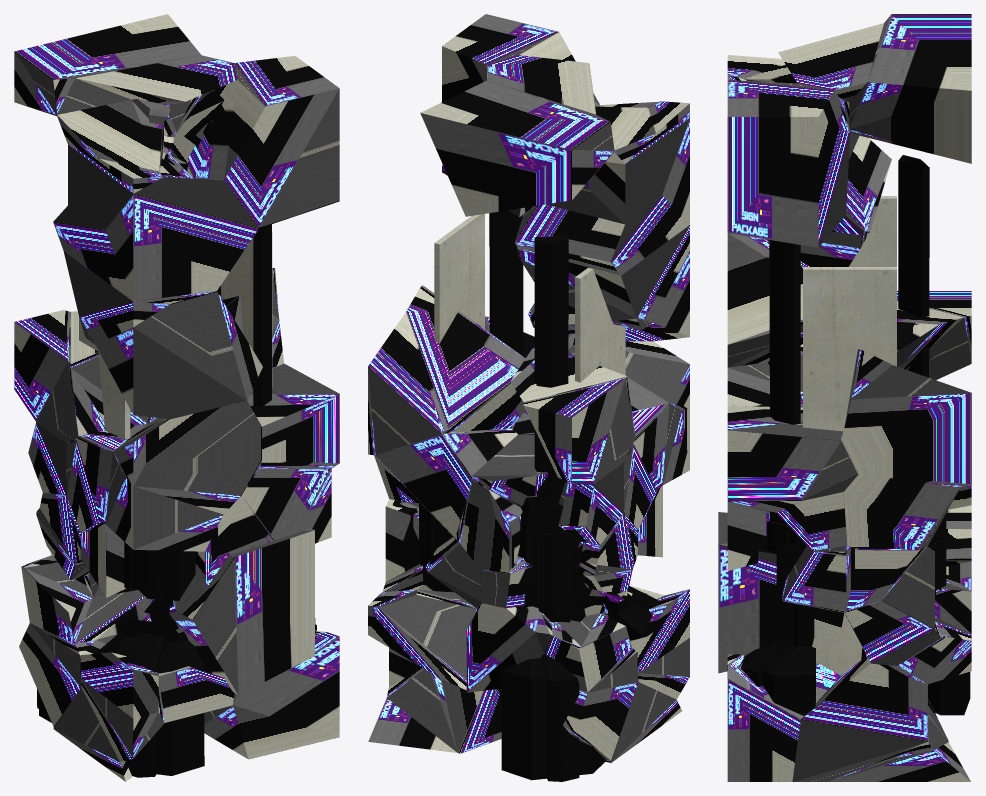
The model's file is shellyGebouw4broken .fbx.
3 views of the same model, side by side, from view 1: azimuth 30°, elevation 25°; view 2: azimuth 150°, elevation 25°; view 3: azimuth 270°, elevation 25° (orthographic). The views are drawn at different scales.
Parts seen in each view (by area): view 1: Cube.008_cell.022, Cube.008_cell.073, Cube.008_cell.044, Cube.008_cell.052, Cube.008_cell.004, Cube.008_cell.093, Cube.008_cell.069, Cube.008_cell.091, Cube.008_cell.061, Cube.008_cell.050, Cube.008_cell.021, Cube.008_cell.098 (+27 smaller); view 2: Cube.008_cell.034, Cube.008_cell.069, Cube.008_cell.018, Cube.008_cell.010, Cube.008_cell.061, Cube.008_cell.062, Cube.008_cell.066, Cube.008_cell.030, Cube.008_cell.085, Cube.008_cell.031, Cube.008_cell.022, Cube.008_cell.049 (+36 smaller); view 3: Cube.008_cell.022, Cube.008_cell.069, Cube.008_cell.010, Cube.008_cell.018, Cube.008_cell.054, Cube.008_cell.050, Cube.008_cell.073, Cube.008_cell.070, Cube.008_cell.093, Cube.008_cell.034, Cube.008_cell.037, Cube.008_cell.044 (+21 smaller).
Part boxes in pixels (x1,y1,x2,y2): Cube.008_cell.022: (185, 56, 339, 228); Cube.008_cell.073: (151, 528, 314, 695); Cube.008_cell.044: (96, 291, 262, 419); Cube.008_cell.052: (105, 177, 258, 303); Cube.008_cell.004: (113, 400, 261, 514); Cube.008_cell.093: (204, 231, 339, 759); Cube.008_cell.069: (14, 14, 201, 116); Cube.008_cell.091: (53, 619, 204, 781); Cube.008_cell.061: (14, 310, 105, 444); Cube.008_cell.050: (247, 363, 339, 463); Cube.008_cell.021: (21, 555, 151, 643); Cube.008_cell.098: (106, 477, 223, 551); Cube.008_cell.034: (466, 233, 591, 781); Cube.008_cell.069: (420, 80, 614, 216); Cube.008_cell.018: (368, 214, 484, 455); Cube.008_cell.010: (406, 214, 525, 432); Cube.008_cell.061: (523, 378, 635, 484); Cube.008_cell.062: (514, 195, 689, 275); Cube.008_cell.066: (368, 590, 476, 690); Cube.008_cell.030: (376, 428, 517, 537); Cube.008_cell.085: (546, 101, 689, 224); Cube.008_cell.031: (386, 668, 501, 753); Cube.008_cell.022: (442, 14, 599, 216); Cube.008_cell.049: (517, 225, 689, 329); Cube.008_cell.022: (727, 80, 850, 247); Cube.008_cell.069: (849, 14, 971, 163); Cube.008_cell.010: (803, 267, 896, 431); Cube.008_cell.018: (803, 267, 971, 487); Cube.008_cell.054: (792, 658, 928, 781); Cube.008_cell.050: (727, 405, 857, 501); Cube.008_cell.073: (718, 512, 862, 675); Cube.008_cell.070: (741, 240, 815, 715); Cube.008_cell.093: (727, 521, 840, 781); Cube.008_cell.034: (898, 155, 971, 715); Cube.008_cell.037: (843, 474, 960, 550); Cube.008_cell.044: (727, 233, 810, 367).
Bounding box in the file's own units: 1161 × 3539 × 1204.
